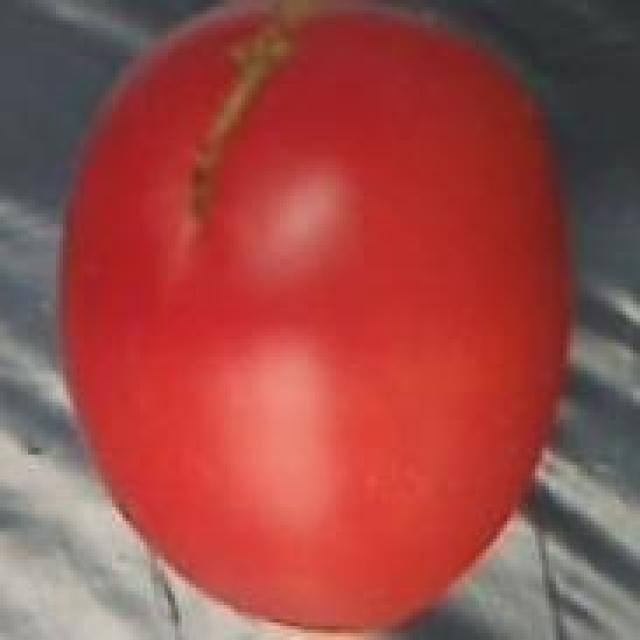overripe tomato: (53, 0, 584, 640)
